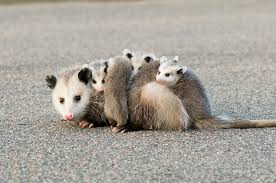opossum: (45, 49, 275, 131)
